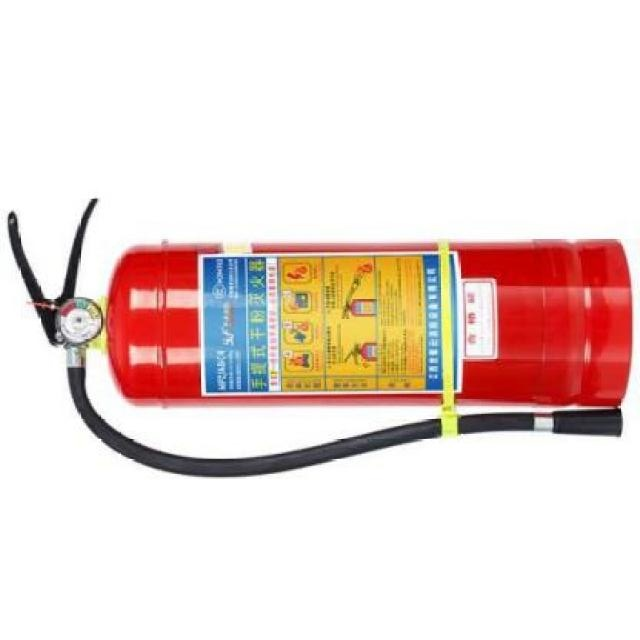fire extinguisher: (6, 198, 632, 479)
